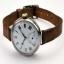watch: (9, 13, 43, 59)
